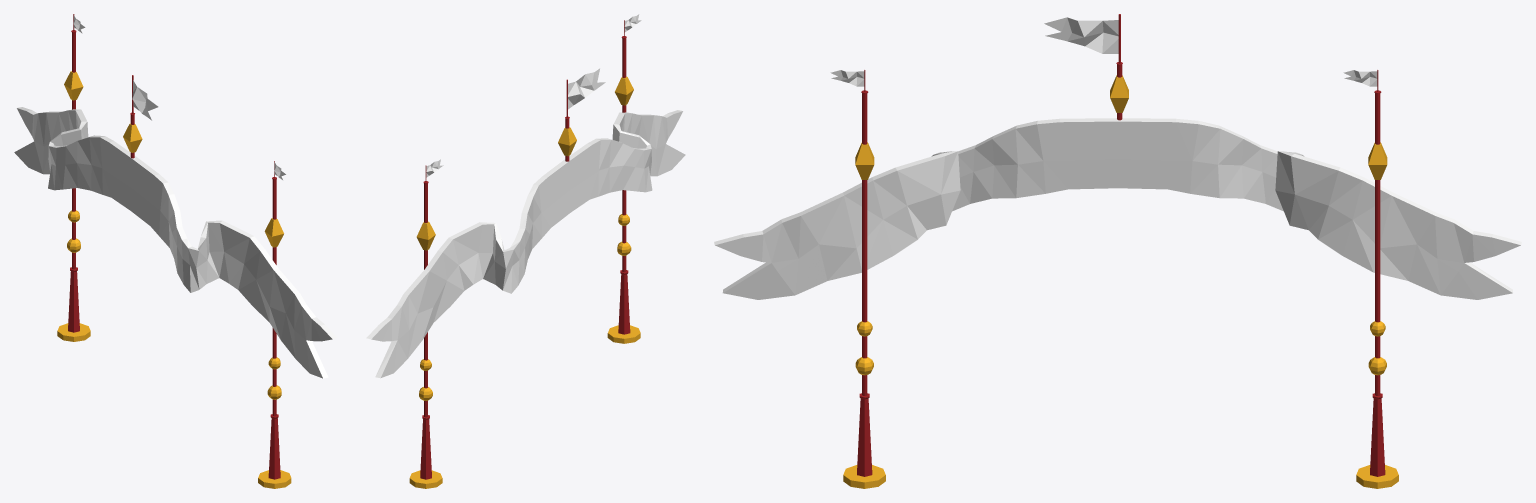
File: SM_Entrance.fbx
3 views of the same model, side by side, from view 1: azimuth 30°, elevation 25°; view 2: azimuth 150°, elevation 25°; view 3: azimuth 270°, elevation 25° (orthographic). The views are drawn at different scales.
Parts seen in each view (by area): view 1: SM_Entrance; view 2: SM_Entrance; view 3: SM_Entrance.
Part boxes in pixels (left/top/right/bottom): SM_Entrance: left=14, top=14, right=337, bottom=488; SM_Entrance: left=366, top=14, right=685, bottom=488; SM_Entrance: left=714, top=14, right=1521, bottom=488.
Size of the model in its own units: 70.43 by 322 by 536.
